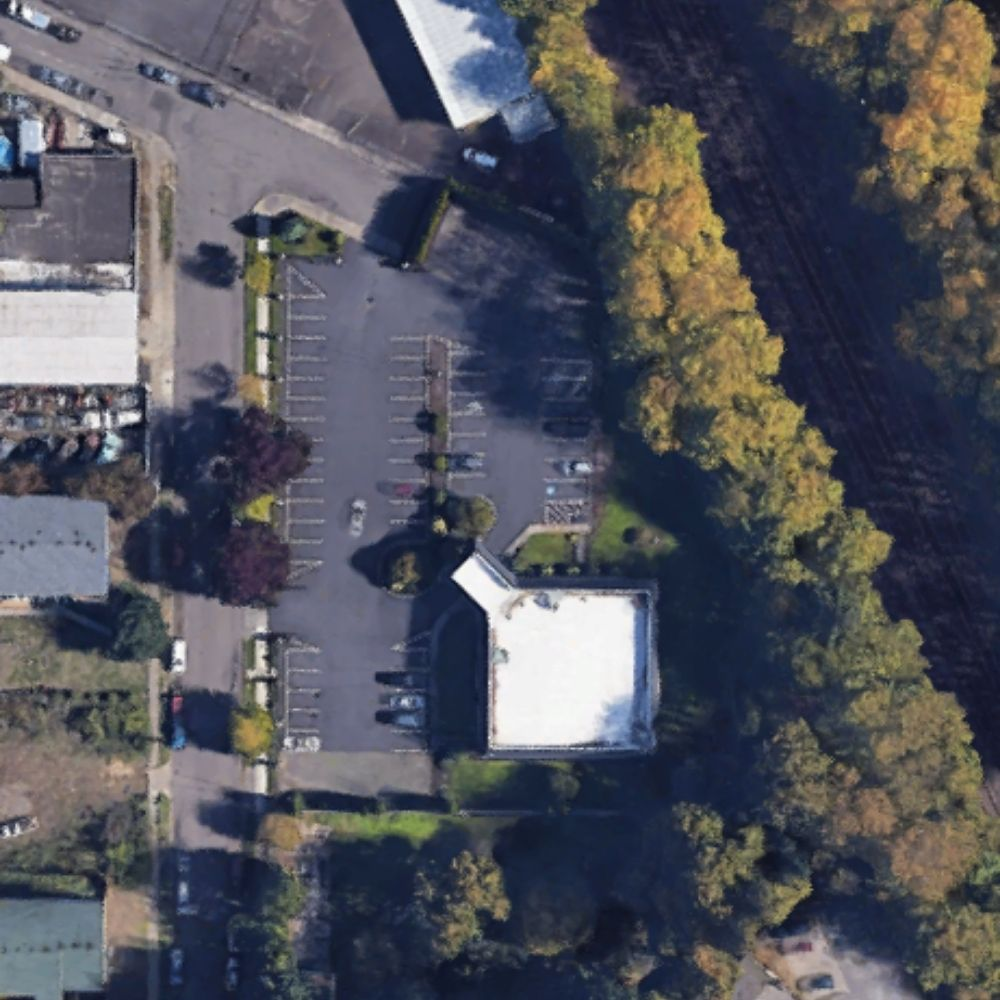parking: (265, 215, 650, 755)
